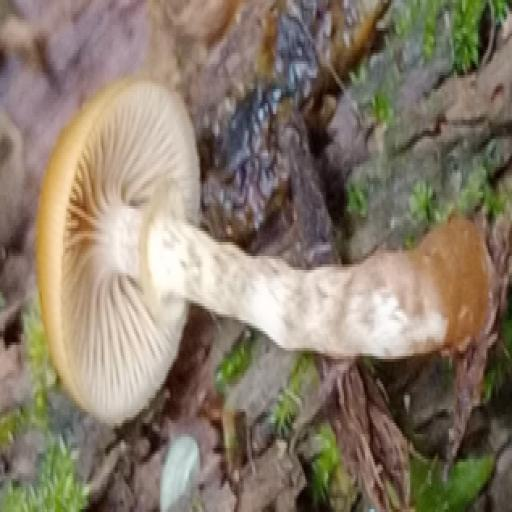mushroom: (31, 59, 334, 439)
